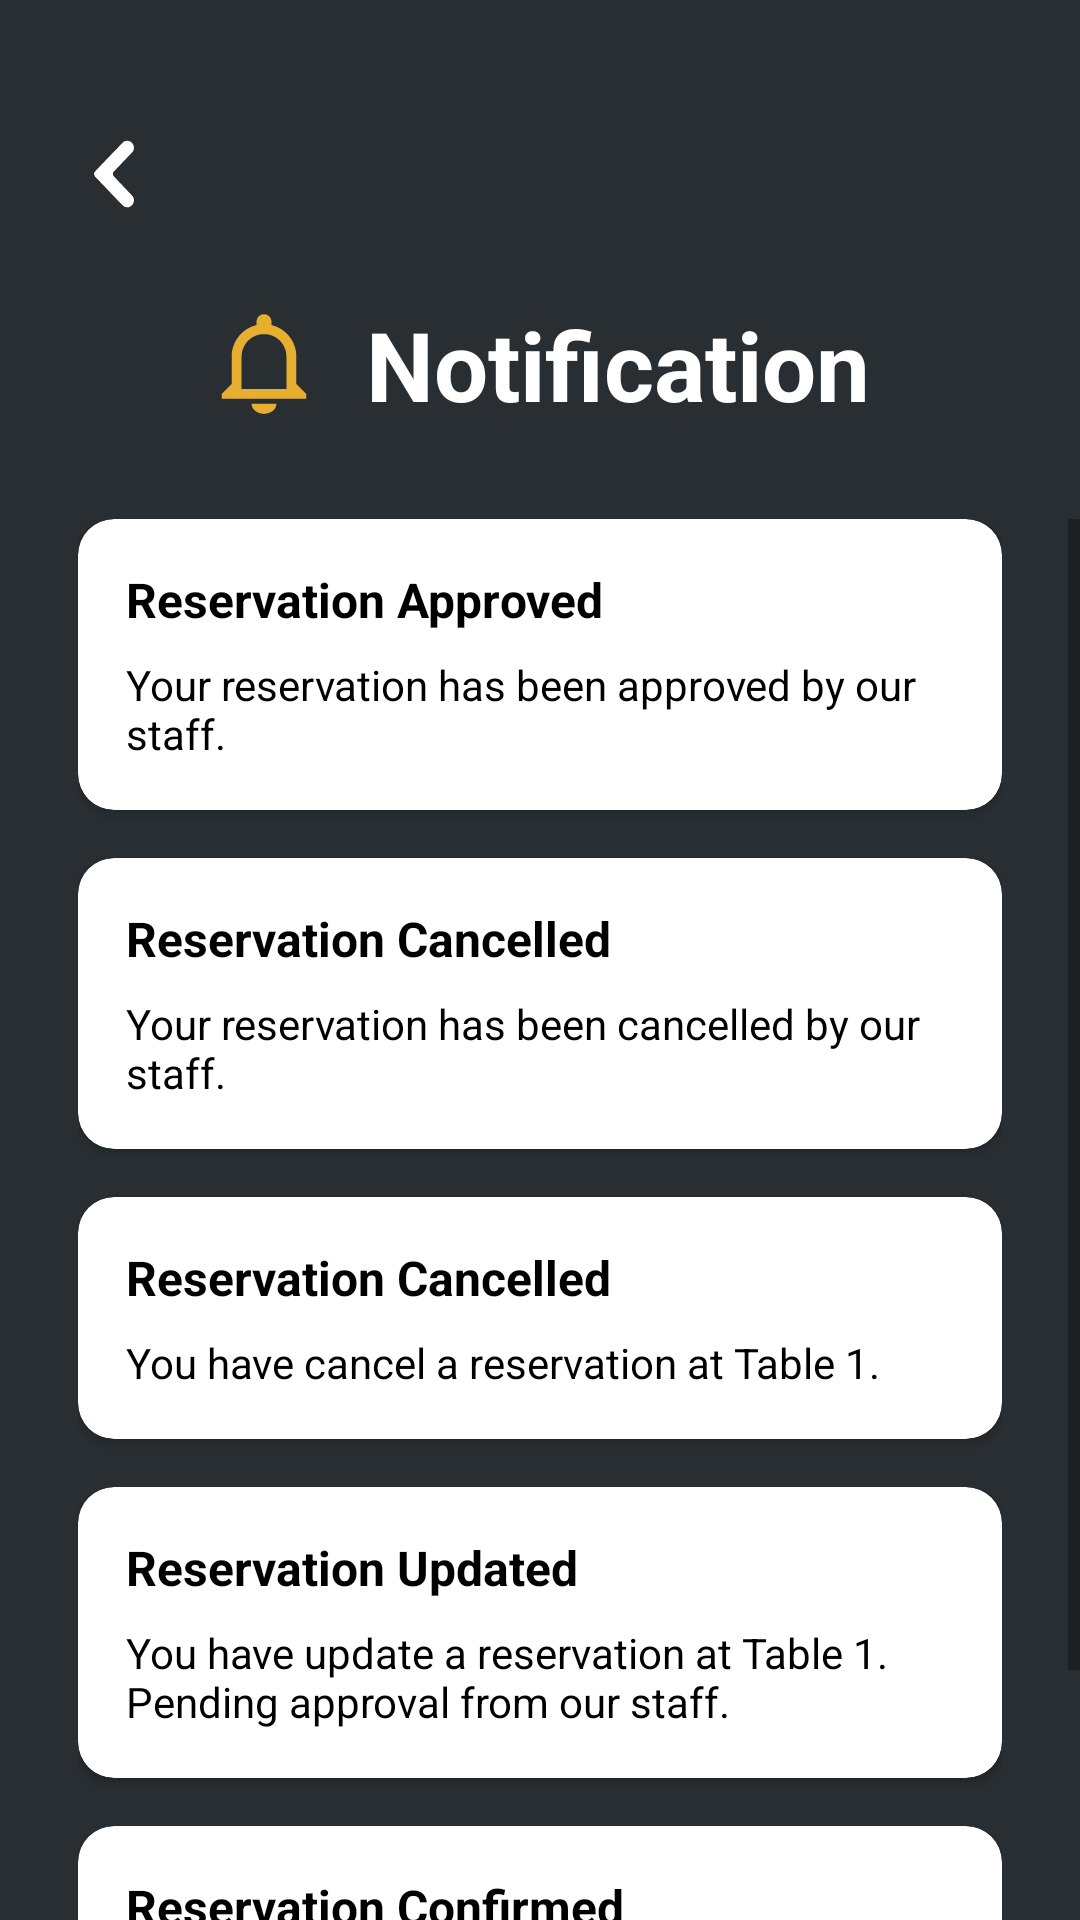

Icons on this 1080×1920 Android screen, each with the point to tap as [x,y]:
Back: [114,174]
